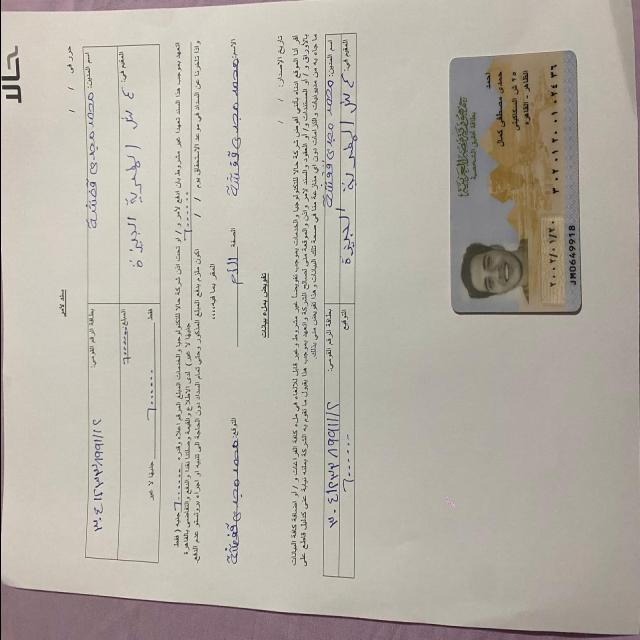id_card: (446, 46, 585, 320)
